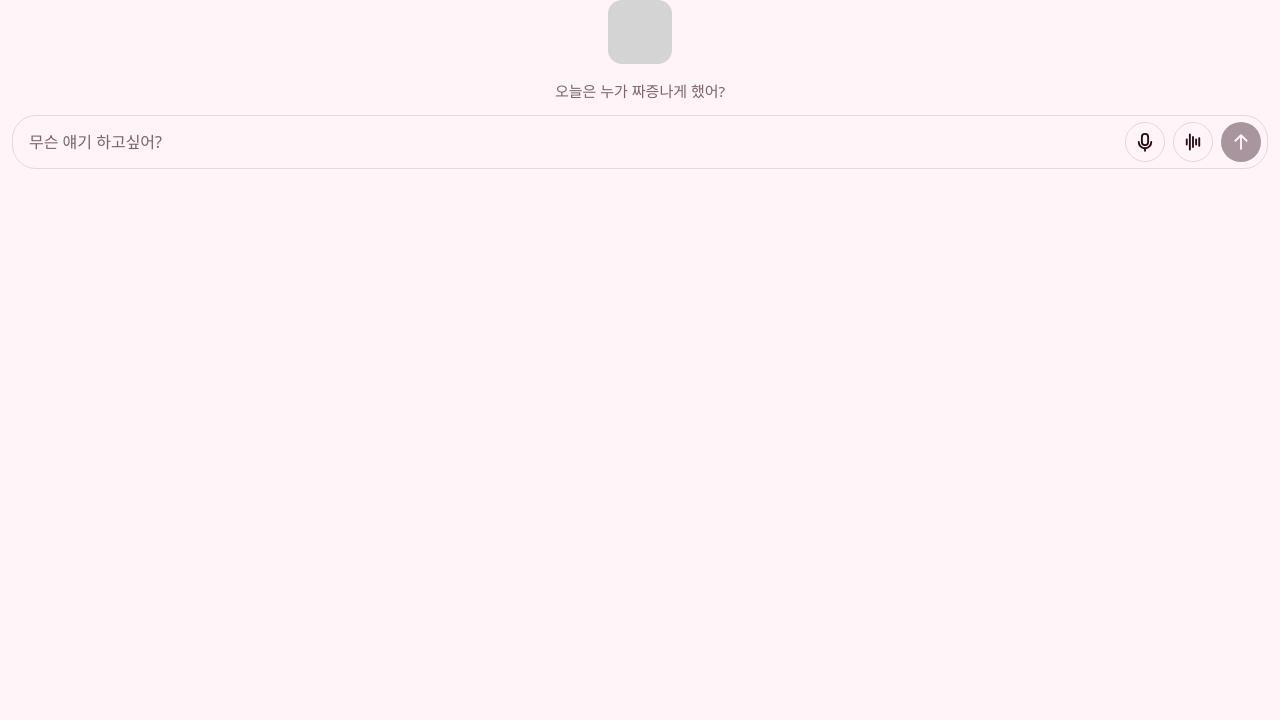
Test: RoomView (DESIGN.md#3) › 전송 410 → 토스트 없이 캐시 status ORPHANED → 모달 (D-021 단일 트리거)
In the text box named "메시지": (573, 142) [29,126,1117,158], type "아직 있어?"
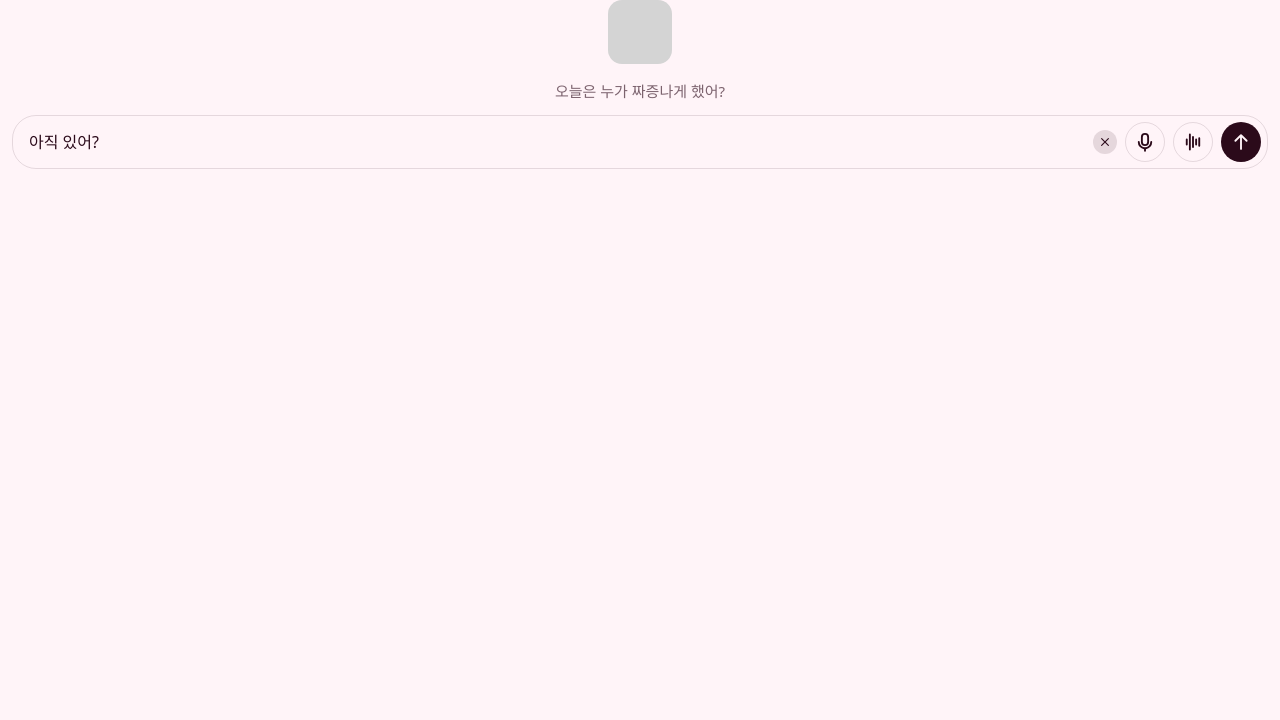
Press Enter in the text box named "메시지", box [29,126,1085,158]
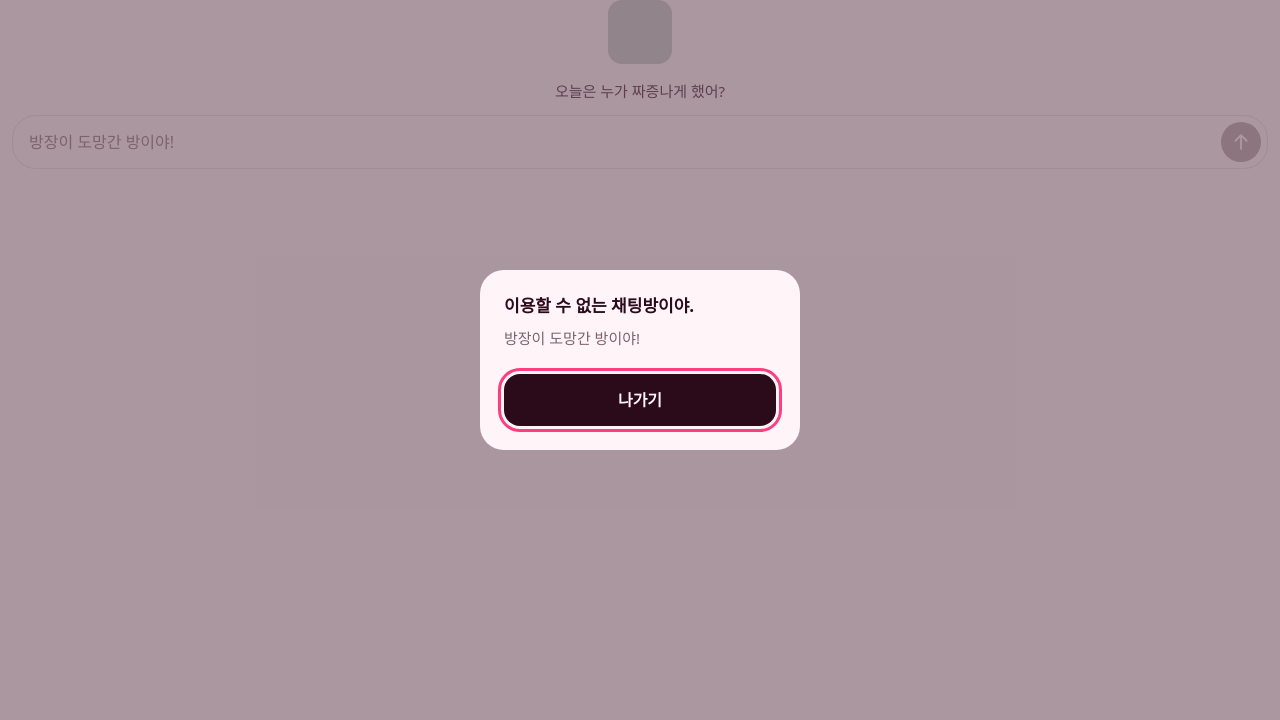
Expected: the text "아직 있어?" is not shown
Expected: the dialog "이용할 수 없는 채팅방이야." is shown, [480,270,800,450]
